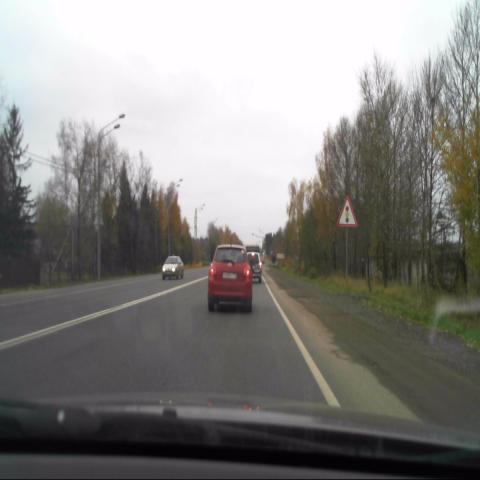1_8: (336, 196, 357, 229)
